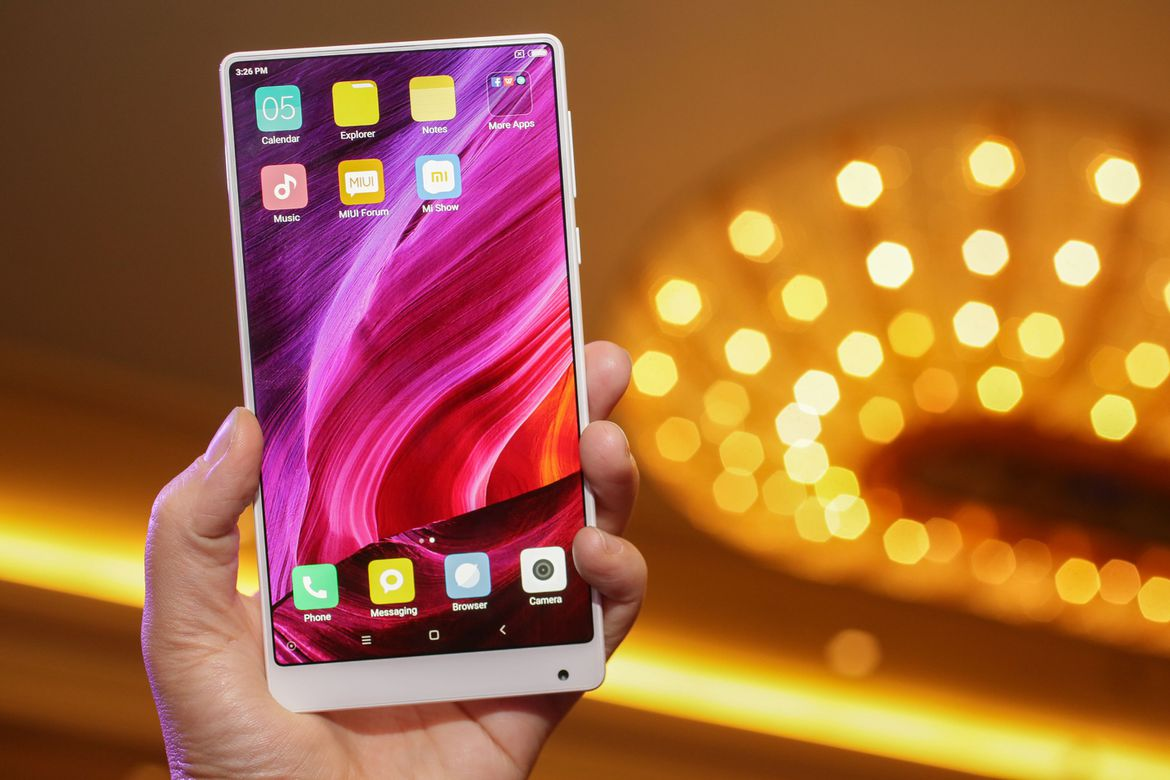smartphone: (218, 33, 607, 713)
